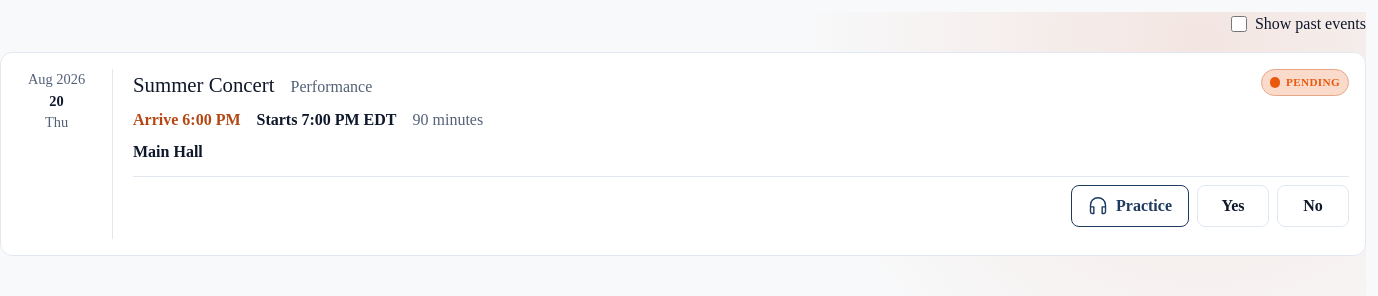
MySchedule RSVP pending state (#196) › shows practice only when available and reports a link failure without losing the schedule
The image size is (1378, 296).
Click the button with aria-label "Open practice player".
click(1130, 206)  # box left=1071, top=185, right=1189, bottom=227
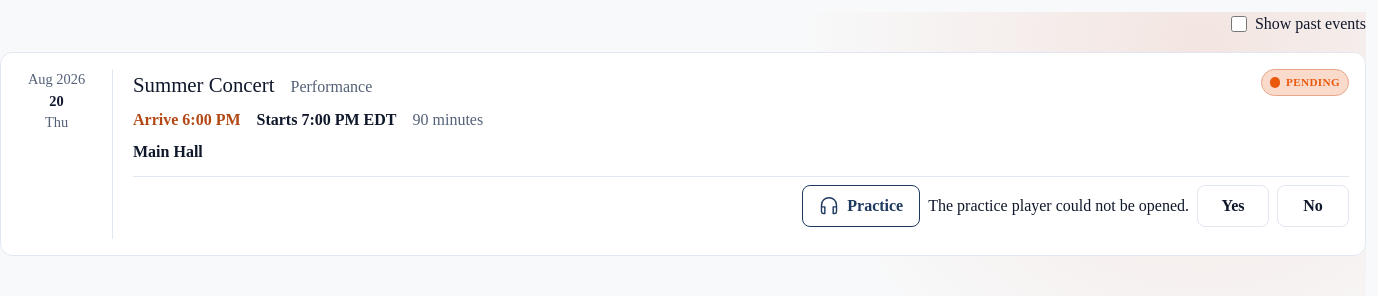
Expected: the button with aria-label "Open practice player" is enabled, left=802, top=185, right=920, bottom=227
Expected: the message reads "The practice player could not be opened.", left=928, top=197, right=1189, bottom=214
